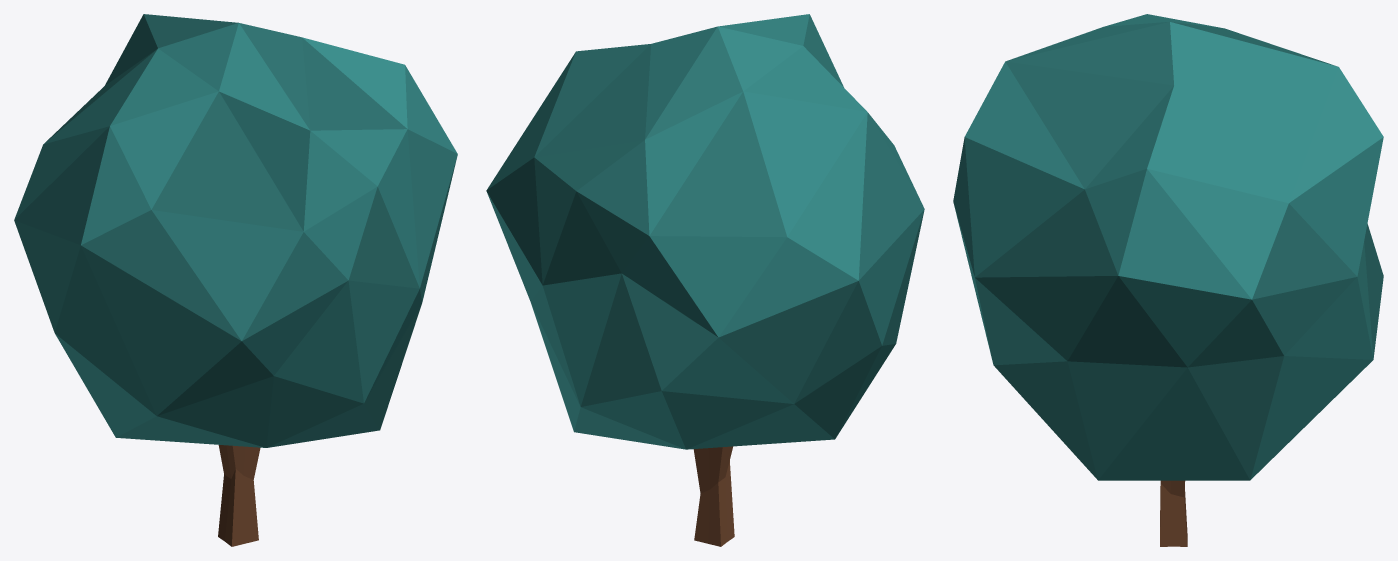
The model's file is Tree_9_Blue.fbx.
The picture shows the model from 3 angles, left to right: view 1: azimuth 30°, elevation 25°; view 2: azimuth 150°, elevation 25°; view 3: azimuth 270°, elevation 25°; orthographic projection.
Parts seen in each view (by area): view 1: Tree_9_Blue_Part_1, Tree_9_Blue_Part_2; view 2: Tree_9_Blue_Part_1, Tree_9_Blue_Part_2; view 3: Tree_9_Blue_Part_1, Tree_9_Blue_Part_2.
Part boxes in pixels (x1,y1,x2,y2): Tree_9_Blue_Part_1: (14,14,457,447); Tree_9_Blue_Part_2: (218,445,260,546); Tree_9_Blue_Part_1: (486,14,924,449); Tree_9_Blue_Part_2: (693,446,734,546); Tree_9_Blue_Part_1: (953,14,1383,480); Tree_9_Blue_Part_2: (1160,480,1187,546).
Size of the model in its own units: 583 by 765 by 576.
